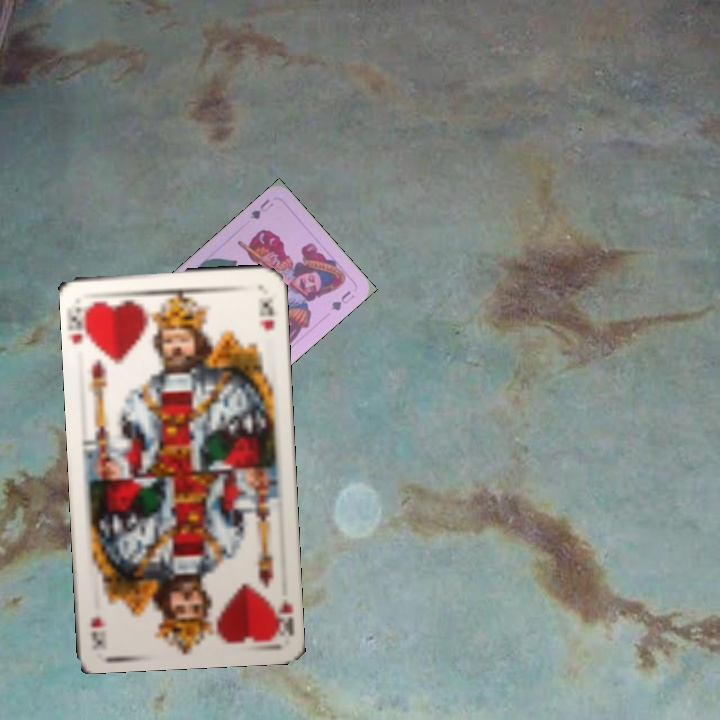GU: (246, 194, 276, 222)
HK: (67, 302, 95, 348), (267, 594, 296, 638)
